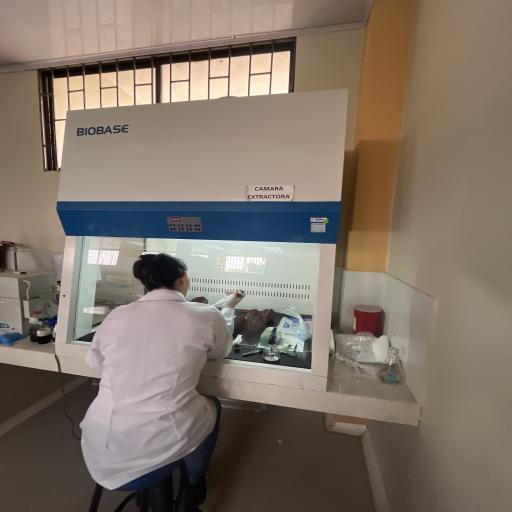Camara_Extractora_Biobase: (40, 86, 371, 404)
